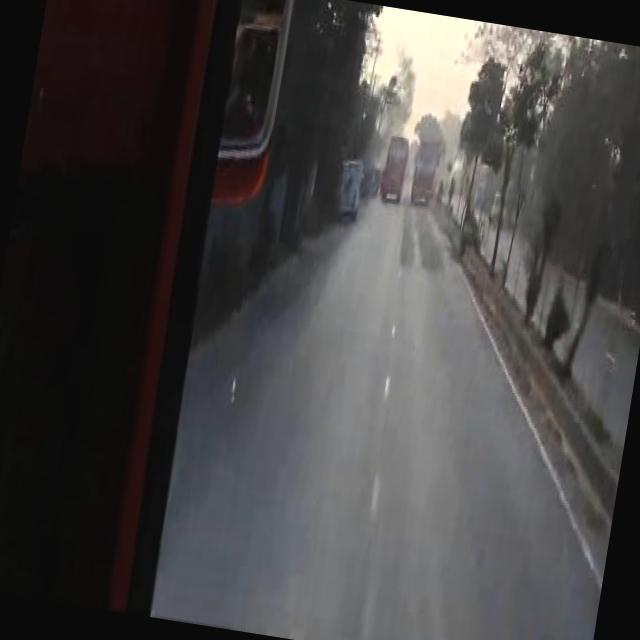bus: (409, 135, 443, 198), (382, 129, 411, 193)
truck: (334, 155, 366, 220)
